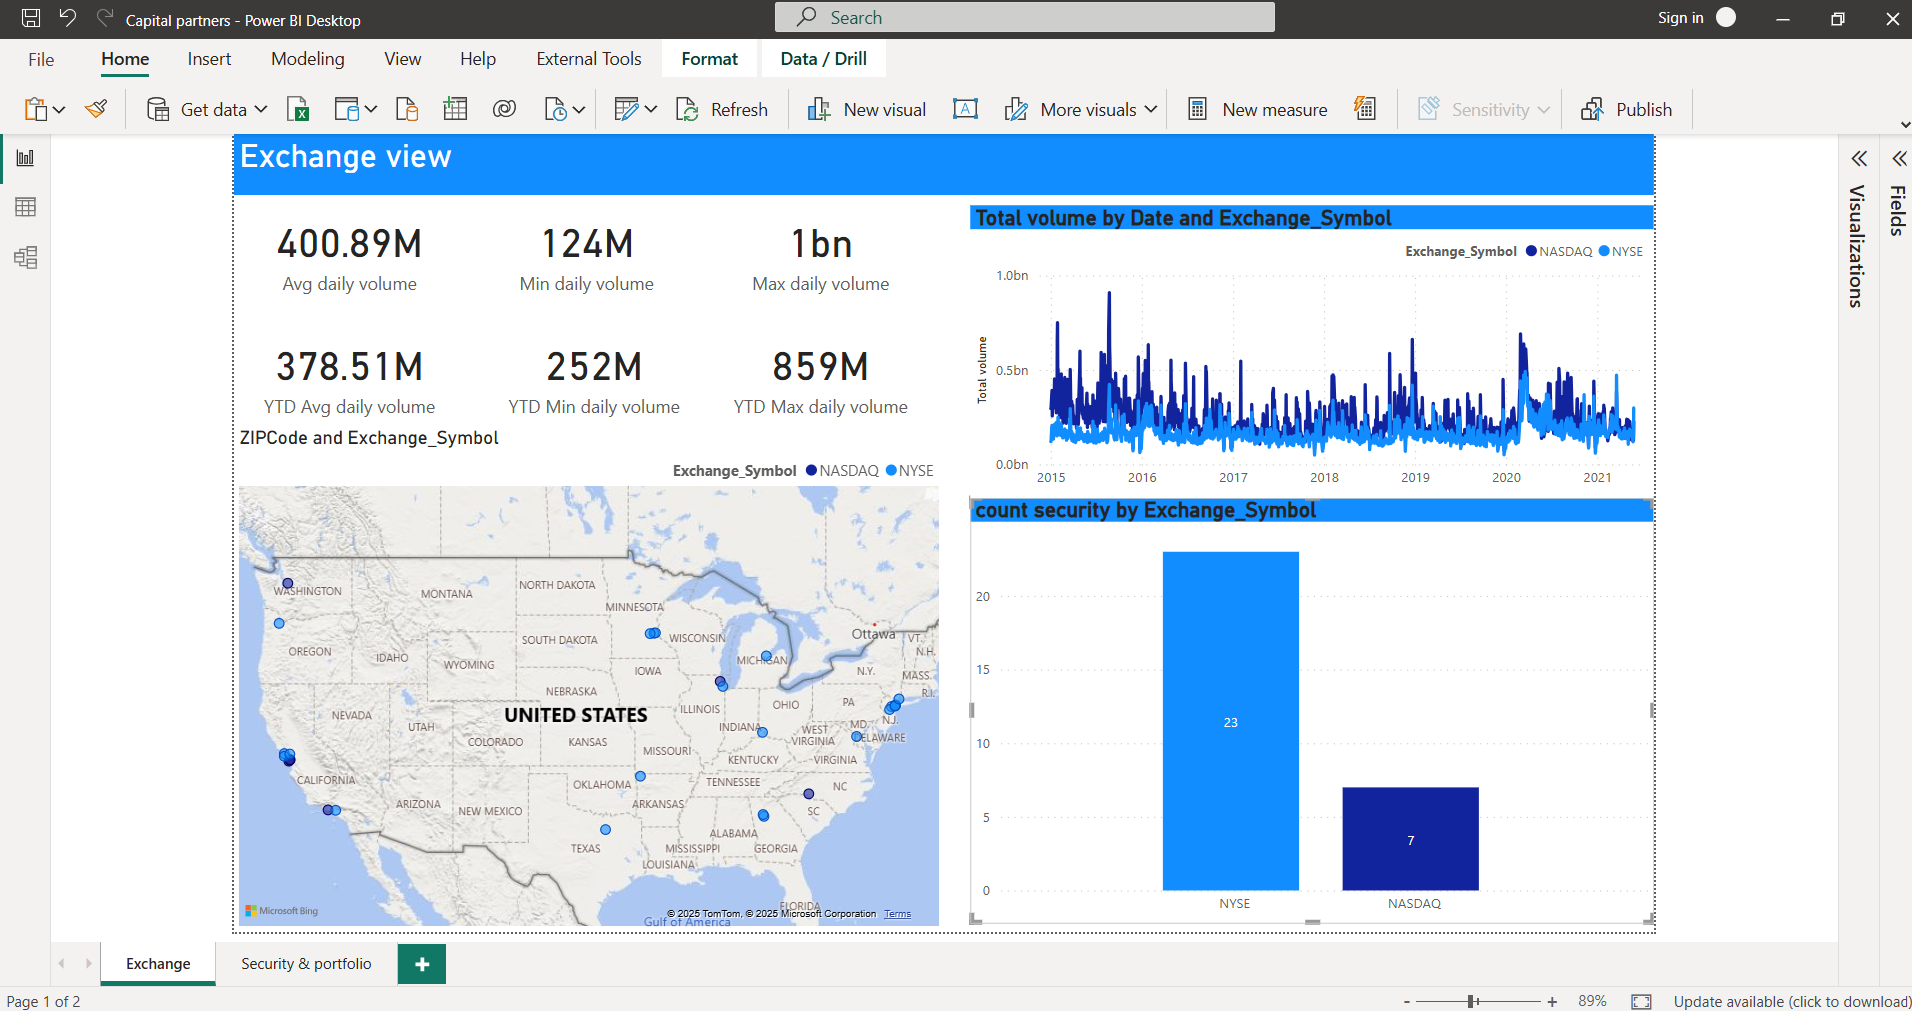

This screenshot's page, from the dashboard's own definition file:
{"tool":"powerbi","page":{"name":"Exchange","canvas":[1280,720],"ordinal":0},"visuals":[{"type":"shape","box":[0,0,1279.9,55],"z":500},{"type":"card","fields":{"Values":["#Measures.Avg daily volumn"]},"box":[0,55,208.8,101.2],"z":2000},{"type":"columnChart","title":"count security by Exchange_Symbol","fields":{"Category":["dimExchange.Exchange_Symbol"],"Y":["#Measures.count security"],"Series":["dimExchange.Exchange_Symbol"]},"box":[663.8,336.2,616.1,383.8],"z":4000},{"type":"lineChart","fields":{"Category":["dimDate.Date"],"Y":["#Measures.Total volumn"],"Series":["dimExchange.Exchange_Symbol"]},"box":[663.8,63.8,616.2,263.8],"z":5000},{"type":"card","fields":{"Values":["#Measures.YTD Avg daily volume"]},"box":[0,168.8,208.8,95],"z":6000},{"type":"card","fields":{"Values":["#Measures.Min daily volume"]},"box":[218.8,55,198.8,101.2],"z":7000},{"type":"card","fields":{"Values":["#Measures.Max daily volume"]},"box":[431.2,55,195,101.2],"z":8000},{"type":"card","fields":{"Values":["#Measures.YTD Min daily volume"]},"box":[218.8,168.8,212.5,95],"z":9000},{"type":"card","fields":{"Values":["#Measures.YTD Max daily volume"]},"box":[431.2,168.8,195,95],"z":10000},{"type":"map","fields":{"Category":["dimSecurity.ZIPCode"],"Series":["dimExchange.Exchange_Symbol"]},"box":[0,264,640.5,456],"z":11000},{"type":"textbox","title":"Exchange view","box":[0,2.4,215.1,42.8],"z":11500}]}

Visuals, with their boxes on the page's 1280x720 design canvas (x1, y1, x2, y2). These are canvas units, not pixel positions in the 1912x1011 screenshot, which may show the page scaled, cropped or inside an application window:
shape: [x1=0, y1=0, x2=1280, y2=55]
card - #Measures.Avg daily volumn: [x1=0, y1=55, x2=209, y2=156]
"count security by Exchange_Symbol" columnChart: [x1=664, y1=336, x2=1280, y2=720]
lineChart - dimDate.Date x #Measures.Total volumn: [x1=664, y1=64, x2=1280, y2=328]
card - #Measures.YTD Avg daily volume: [x1=0, y1=169, x2=209, y2=264]
card - #Measures.Min daily volume: [x1=219, y1=55, x2=418, y2=156]
card - #Measures.Max daily volume: [x1=431, y1=55, x2=626, y2=156]
card - #Measures.YTD Min daily volume: [x1=219, y1=169, x2=431, y2=264]
card - #Measures.YTD Max daily volume: [x1=431, y1=169, x2=626, y2=264]
map - dimSecurity.ZIPCode x dimExchange.Exchange_Symbol: [x1=0, y1=264, x2=640, y2=720]
"Exchange view" textbox: [x1=0, y1=2, x2=215, y2=45]
